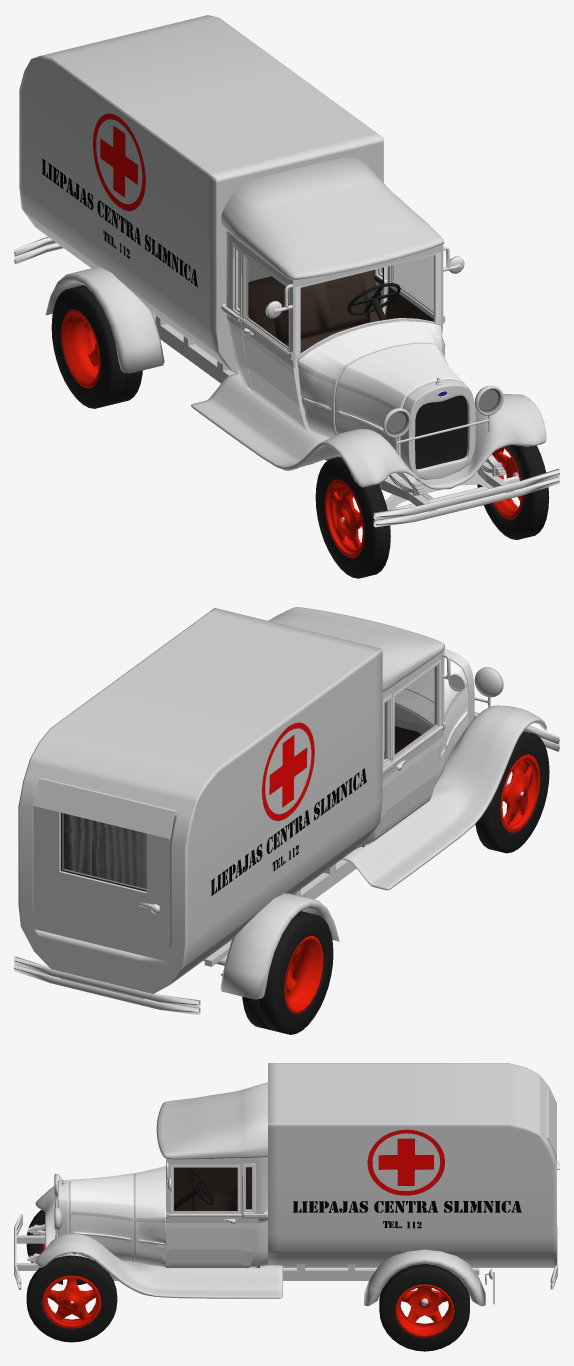
3 views of the same model, one above another, from view 1: azimuth 30°, elevation 25°; view 2: azimuth 150°, elevation 25°; view 3: azimuth 270°, elevation 25° (orthographic). The views are drawn at different scales.
Visible parts, largest first — view 1: Cube.001, body, fenders, wheel rear.001, wheel front.001, door right, seat front, Cylinder.001, amberlamps.001, wheel front, frame, bumper front (+4 smaller); view 2: Cube.001, Plane, body, fenders, wheel rear.001, door right, wheel front.001, Cylinder.001, amberlamps.001, bumper front.001, frame, light right; view 3: Cube.001, body, fenders, door left, wheel rear, wheel front, amberlamps, Cylinder, frame, door right, seat front, Plane (+1 smaller).
Part boxes in pixels (x1=…): Cube.001: x1=19, y1=15, x2=383, y2=374; body: x1=221, y1=157, x2=490, y2=479; fenders: x1=191, y1=373, x2=546, y2=489; wheel rear.001: x1=51, y1=285, x2=142, y2=408; wheel front.001: x1=315, y1=456, x2=390, y2=578; door right: x1=240, y1=250, x2=302, y2=426; seat front: x1=248, y1=270, x2=379, y2=352; Cylinder.001: x1=45, y1=267, x2=164, y2=373; amberlamps.001: x1=42, y1=113, x2=197, y2=287; wheel front: x1=477, y1=445, x2=549, y2=539; frame: x1=153, y1=314, x2=513, y2=511; bumper front: x1=373, y1=469, x2=559, y2=527; Cube.001: x1=18, y1=608, x2=382, y2=999; Plane: x1=33, y1=777, x2=176, y2=961; body: x1=268, y1=607, x2=490, y2=848; fenders: x1=342, y1=705, x2=546, y2=890; wheel rear.001: x1=242, y1=911, x2=333, y2=1034; door right: x1=380, y1=658, x2=443, y2=834; wheel front.001: x1=475, y1=731, x2=549, y2=853; Cylinder.001: x1=220, y1=893, x2=339, y2=999; amberlamps.001: x1=211, y1=722, x2=366, y2=895; bumper front.001: x1=14, y1=956, x2=200, y2=1014; frame: x1=203, y1=859, x2=356, y2=976; light right: x1=474, y1=667, x2=503, y2=697; Cube.001: x1=268, y1=1063, x2=556, y2=1267; body: x1=55, y1=1082, x2=271, y2=1267; fenders: x1=35, y1=1186, x2=282, y2=1298; door left: x1=169, y1=1164, x2=241, y2=1265; wheel rear: x1=379, y1=1263, x2=469, y2=1351; wheel front: x1=26, y1=1255, x2=117, y2=1342; amberlamps: x1=293, y1=1129, x2=521, y2=1228; Cylinder: x1=364, y1=1249, x2=485, y2=1306; frame: x1=16, y1=1224, x2=479, y2=1291; door right: x1=174, y1=1167, x2=237, y2=1210; seat front: x1=192, y1=1167, x2=259, y2=1267; Plane: x1=546, y1=1089, x2=559, y2=1169.
Size of the model in its own units: 122 by 154 by 348.
